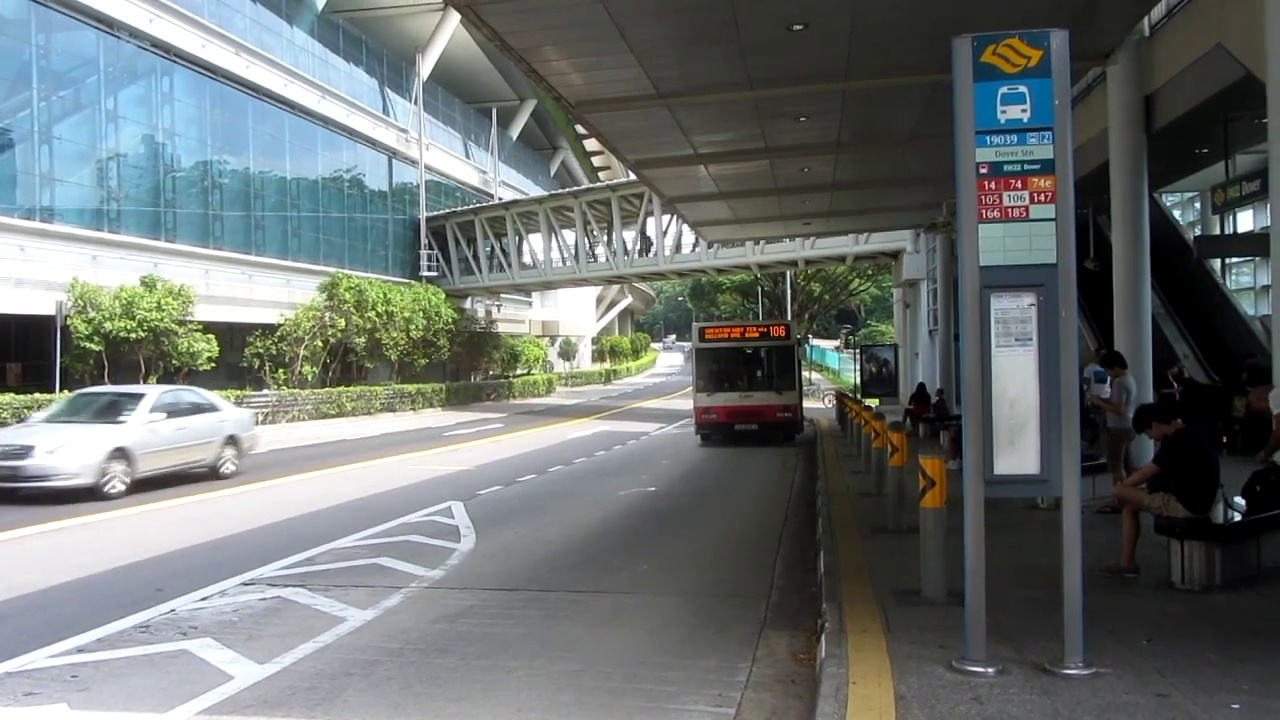bus panel: (697, 323, 792, 344)
